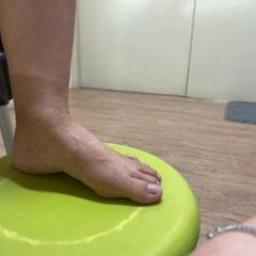Medial View -Left Foot-: (2, 64, 170, 220)
